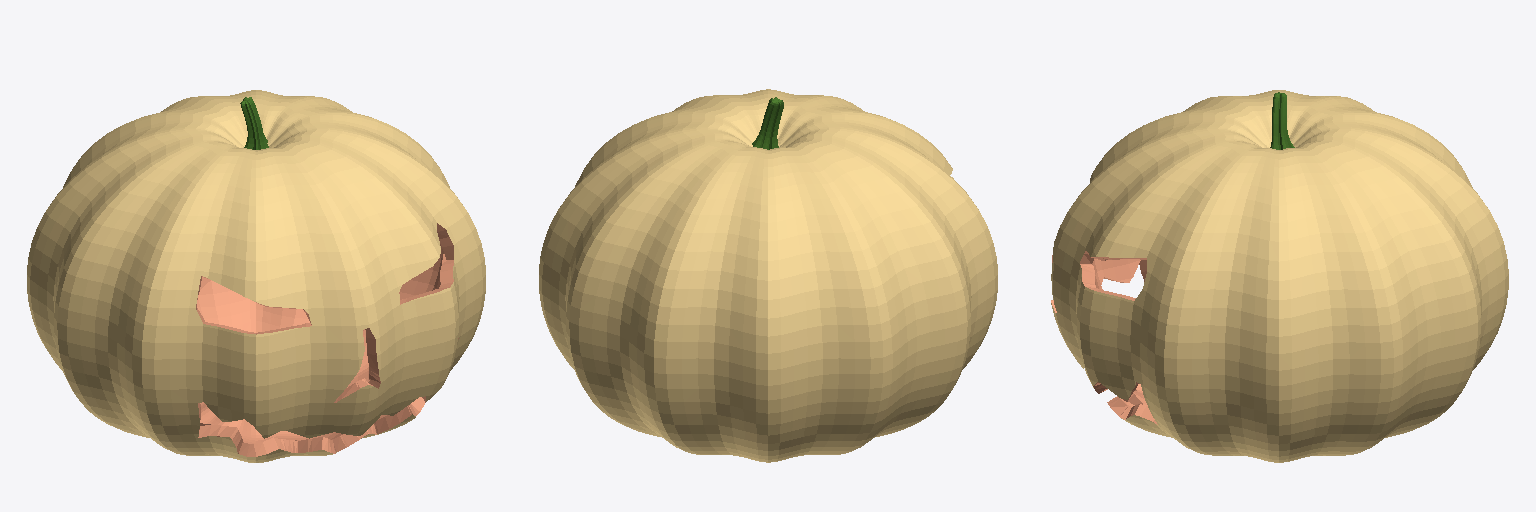
The model's file is potiron02.obj.
The picture shows the model from 3 angles: view 1: azimuth 30°, elevation 25°; view 2: azimuth 150°, elevation 25°; view 3: azimuth 270°, elevation 25°; orthographic projection.
Parts seen in each view (by area): view 1: body, Tail; view 2: body, Tail; view 3: body, Tail.
Boxes of the visible parts, box(x1,y1,x2,y2) form: body: box(27, 90, 485, 462); Tail: box(240, 97, 268, 149); body: box(539, 89, 997, 462); Tail: box(752, 97, 783, 149); body: box(1051, 90, 1508, 462); Tail: box(1270, 92, 1294, 149).
Size of the model in its own units: 22.86 by 17.5 by 22.77.